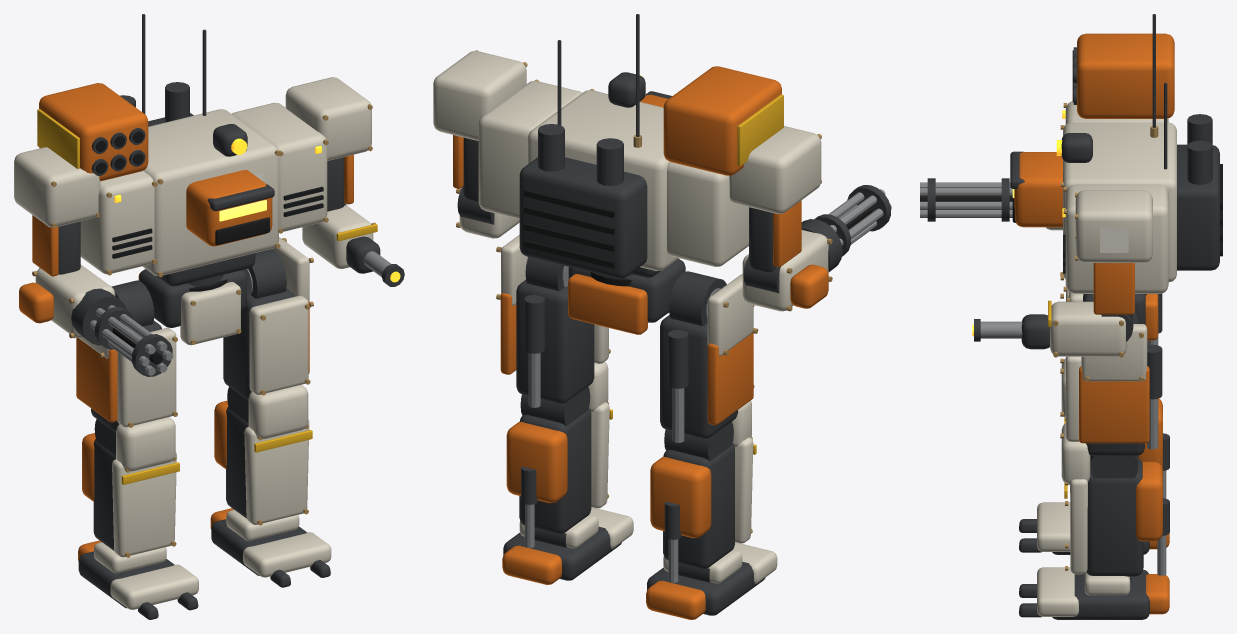
File: striker_B.glb
3 renders of one model, left to right at view 1: azimuth 30°, elevation 25°; view 2: azimuth 150°, elevation 25°; view 3: azimuth 270°, elevation 25°, orthographic. The views are drawn at different scales.
Visible parts, largest first — view 1: torso_mesh, knee_L_mesh, knee_R_mesh, hip_L_mesh, hip_R_mesh, shoulder_R_mesh, shoulder_L_mesh, ankle_L_mesh, ankle_R_mesh, pelvis_mesh, elbow_R_mesh, elbow_L_mesh (+1 smaller); view 2: torso_mesh, hip_R_mesh, knee_L_mesh, knee_R_mesh, hip_L_mesh, shoulder_R_mesh, shoulder_L_mesh, ankle_R_mesh, ankle_L_mesh, pelvis_mesh, elbow_R_mesh, gatling_spin_mesh (+1 smaller); view 3: torso_mesh, knee_L_mesh, hip_L_mesh, shoulder_L_mesh, ankle_L_mesh, elbow_L_mesh, gatling_spin_mesh, ankle_R_mesh, knee_R_mesh, pelvis_mesh, DECAL_mark_L.
Part boxes in pixels (bbox=[...]): torso_mesh: bbox=[37, 14, 328, 286]; knee_L_mesh: bbox=[214, 385, 312, 525]; knee_R_mesh: bbox=[82, 417, 179, 557]; hip_L_mesh: bbox=[223, 237, 313, 400]; hip_R_mesh: bbox=[73, 280, 177, 432]; shoulder_R_mesh: bbox=[14, 147, 100, 276]; shoulder_L_mesh: bbox=[285, 77, 372, 211]; ankle_L_mesh: bbox=[210, 508, 331, 587]; ankle_R_mesh: bbox=[78, 540, 198, 619]; pelvis_mesh: bbox=[138, 269, 246, 345]; elbow_R_mesh: bbox=[19, 264, 126, 345]; elbow_L_mesh: bbox=[302, 203, 404, 286]; torso_mesh: bbox=[478, 14, 783, 278]; hip_R_mesh: bbox=[660, 271, 758, 442]; knee_L_mesh: bbox=[506, 361, 612, 547]; knee_R_mesh: bbox=[650, 400, 756, 582]; hip_L_mesh: bbox=[496, 235, 610, 407]; shoulder_R_mesh: bbox=[729, 126, 821, 272]; shoulder_L_mesh: bbox=[433, 50, 527, 201]; ankle_R_mesh: bbox=[646, 542, 777, 619]; ankle_L_mesh: bbox=[502, 507, 633, 584]; pelvis_mesh: bbox=[568, 258, 685, 334]; elbow_R_mesh: bbox=[742, 219, 842, 311]; gatling_spin_mesh: bbox=[814, 185, 891, 256]; torso_mesh: bbox=[1010, 14, 1222, 293]; knee_L_mesh: bbox=[1061, 423, 1169, 576]; hip_L_mesh: bbox=[1060, 312, 1162, 455]; shoulder_L_mesh: bbox=[1075, 190, 1152, 317]; ankle_L_mesh: bbox=[1019, 567, 1169, 619]; elbow_L_mesh: bbox=[972, 300, 1133, 357]; gatling_spin_mesh: bbox=[920, 178, 1012, 221]; ankle_R_mesh: bbox=[1019, 502, 1169, 554]; knee_R_mesh: bbox=[1061, 358, 1169, 505]; pelvis_mesh: bbox=[1067, 292, 1158, 340]; DECAL_mark_L: bbox=[1100, 227, 1128, 252].
Size of the model in its own units: 6.82 by 10.53 by 5.3.
